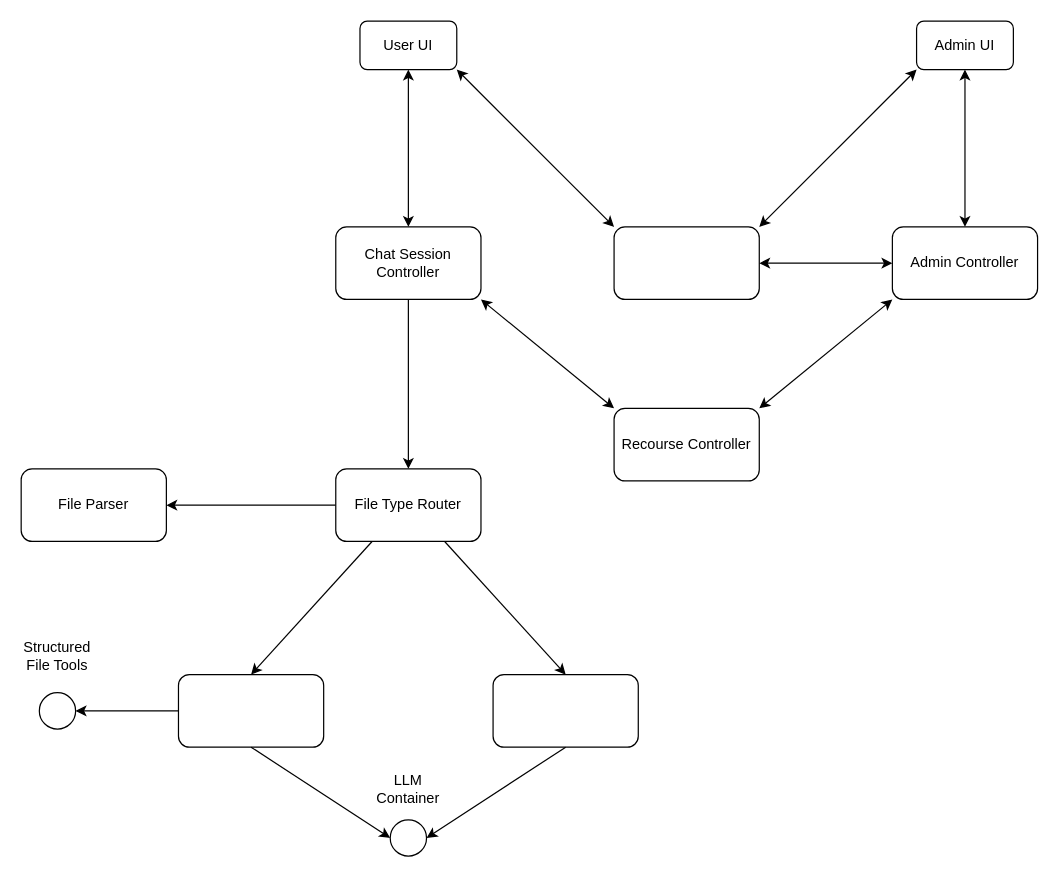
This 1059x877 diagram has some shape labels left out. Here are the shapes that lost their labels. From the top down, the box of each, then its label:
(613, 226, 759, 299): Auth Controller
(177, 673, 324, 747): Structured LLM Controller
(492, 673, 638, 747): Unstructured LLM Controller
